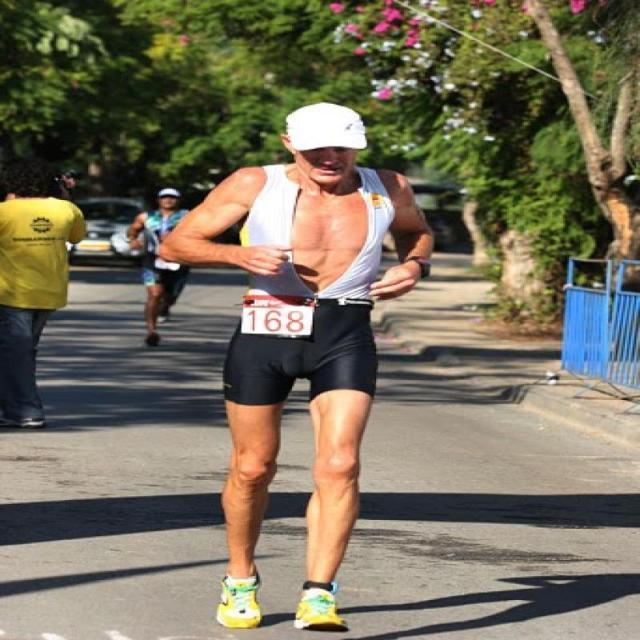dorsal: (239, 292, 323, 340)
